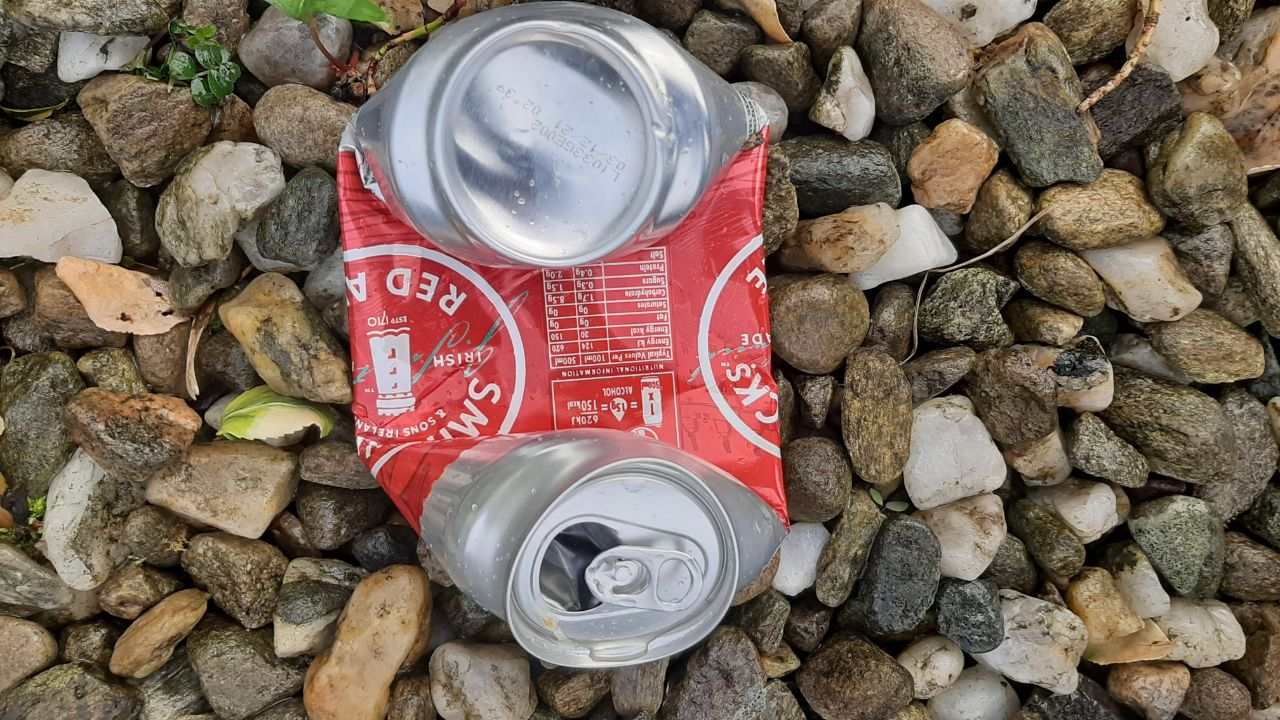Can: (336, 1, 792, 667)
